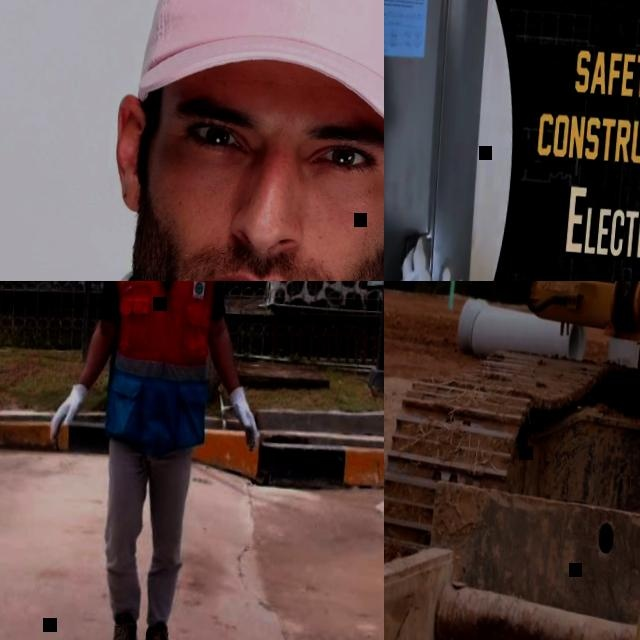NO-Hardhat: (135, 0, 384, 156)
NO-Mask: (136, 231, 384, 281)
Person: (0, 0, 384, 281), (26, 281, 288, 640)
Safety Vest: (98, 281, 226, 388)
machinery: (384, 281, 640, 588)
